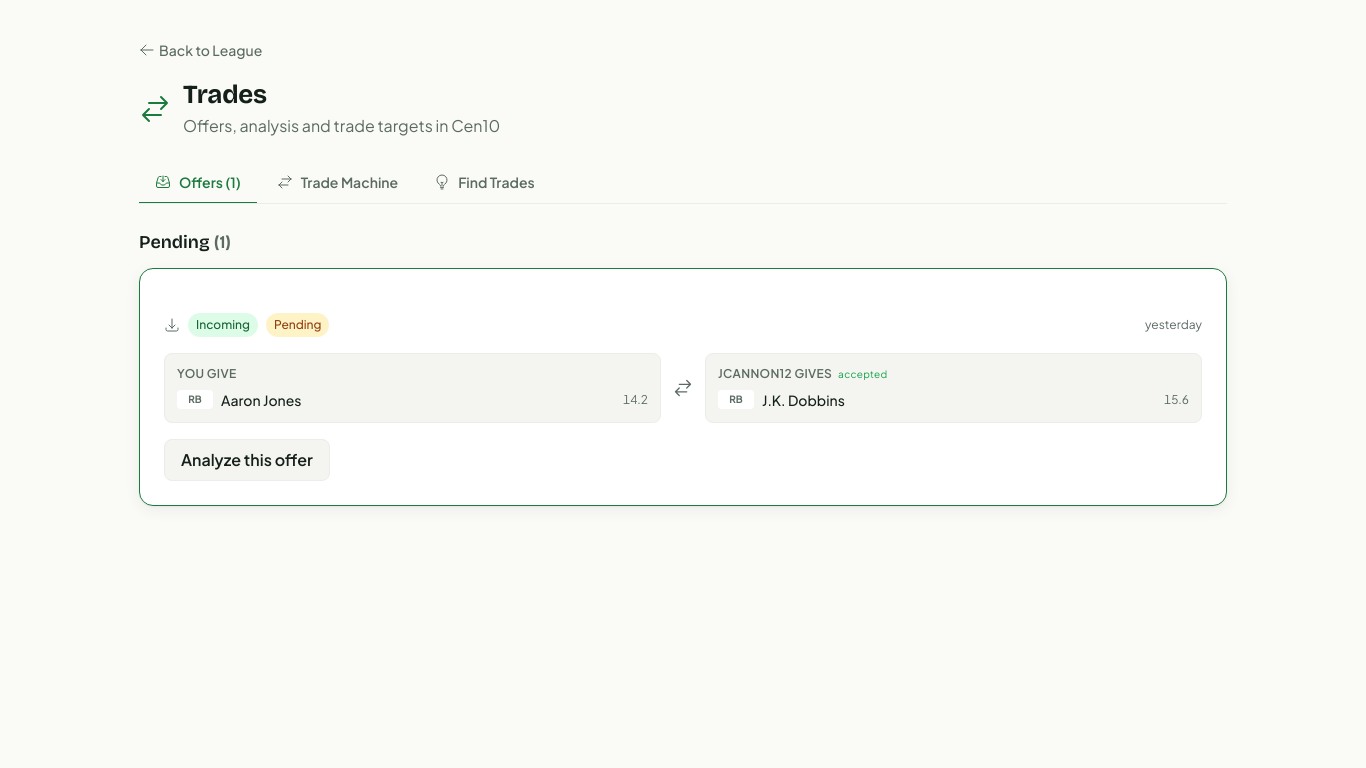
Trade finder › is honest when there is nothing worth proposing
This screenshot has width=1366, height=768.
Click the tab "Find Trades": (484, 183) [418,162,551,204]
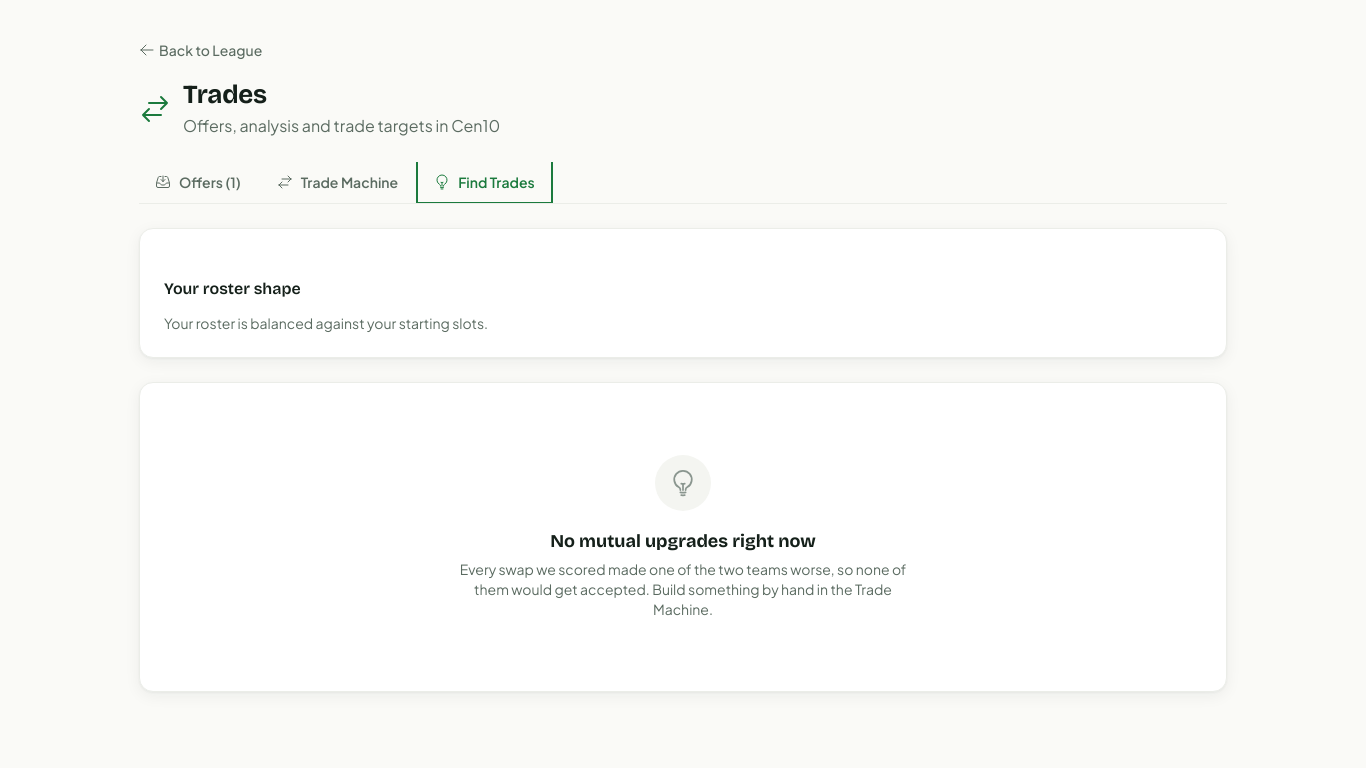
Expected: the heading "No mutual upgrades right now" is shown, [550,527,816,555]
